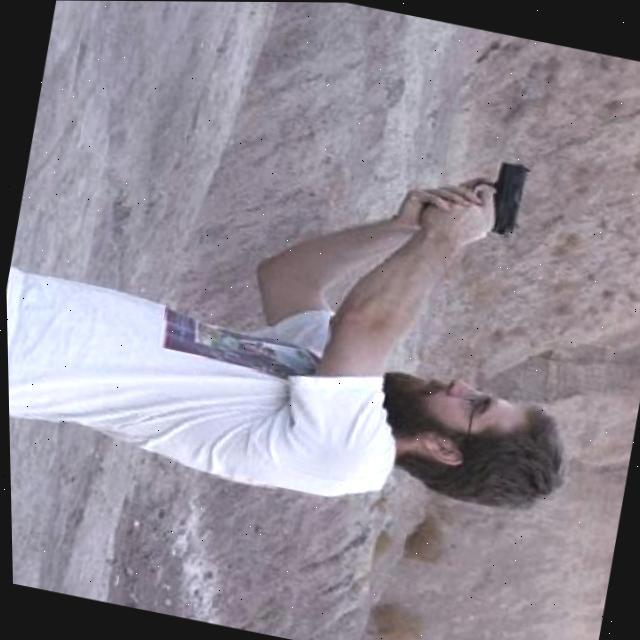gun: (460, 153, 532, 244)
